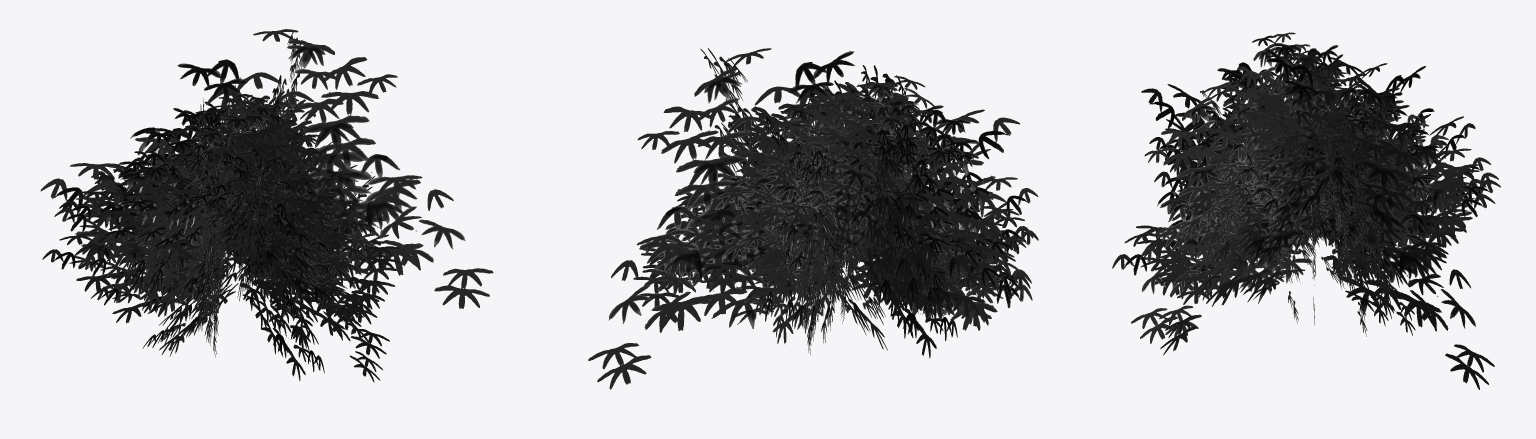
The model's file is Bamboo_B.fbx.
The picture shows the model from 3 angles, left to right: view 1: azimuth 30°, elevation 25°; view 2: azimuth 150°, elevation 25°; view 3: azimuth 270°, elevation 25°; orthographic projection. The views are drawn at different scales.
Parts seen in each view (by area): view 1: bamboo_B_trunk, bamboo_B_Rev; view 2: bamboo_B_trunk, bamboo_B_Rev; view 3: bamboo_B_Rev, bamboo_B_trunk.
Part boxes in pixels (x1,y1,x2,y2): bamboo_B_trunk: [54, 29, 493, 382]; bamboo_B_Rev: [40, 29, 461, 380]; bamboo_B_trunk: [588, 48, 1038, 389]; bamboo_B_Rev: [589, 48, 1037, 384]; bamboo_B_Rev: [1112, 32, 1498, 385]; bamboo_B_trunk: [1136, 35, 1500, 389].
Bounding box in the file's own units: 126 × 103 × 117.
